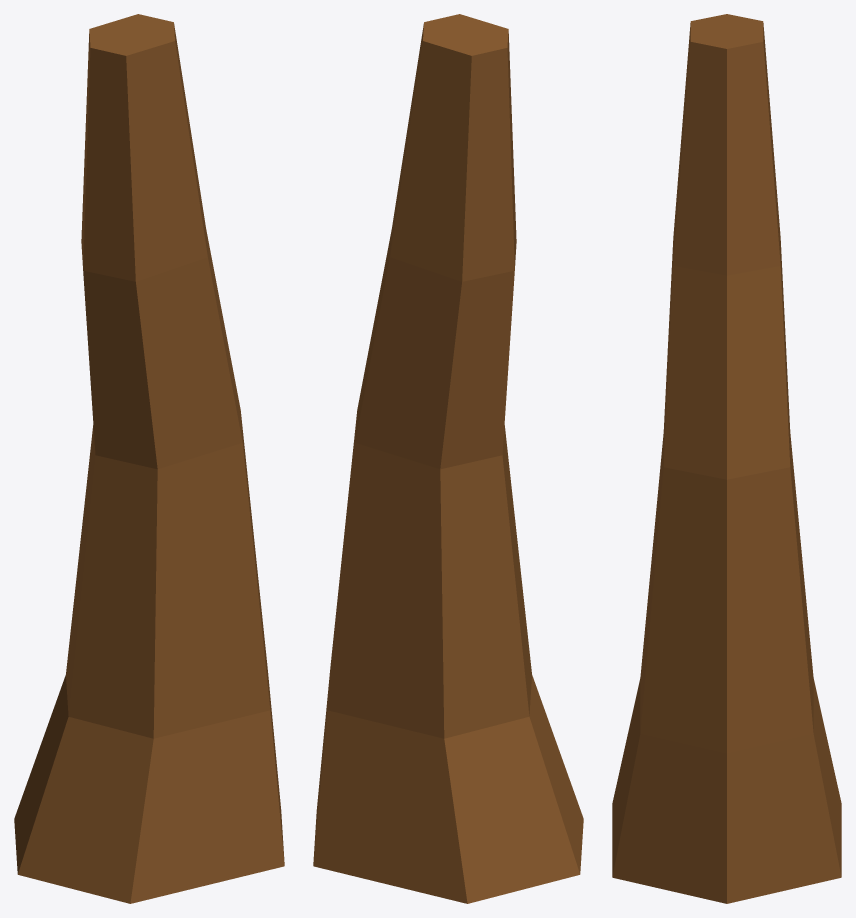
The model's file is Tree5.fbx.
3 renders of one model, left to right at view 1: azimuth 30°, elevation 25°; view 2: azimuth 150°, elevation 25°; view 3: azimuth 270°, elevation 25°, orthographic.
Visible parts, largest first — view 1: Tree5; view 2: Tree5; view 3: Tree5.
Part boxes in pixels (left/top/right/bottom): Tree5: left=14, top=14, right=284, bottom=903; Tree5: left=313, top=14, right=583, bottom=903; Tree5: left=612, top=14, right=841, bottom=903.
Bounding box in the file's own units: 62.96 × 186 × 48.08.
